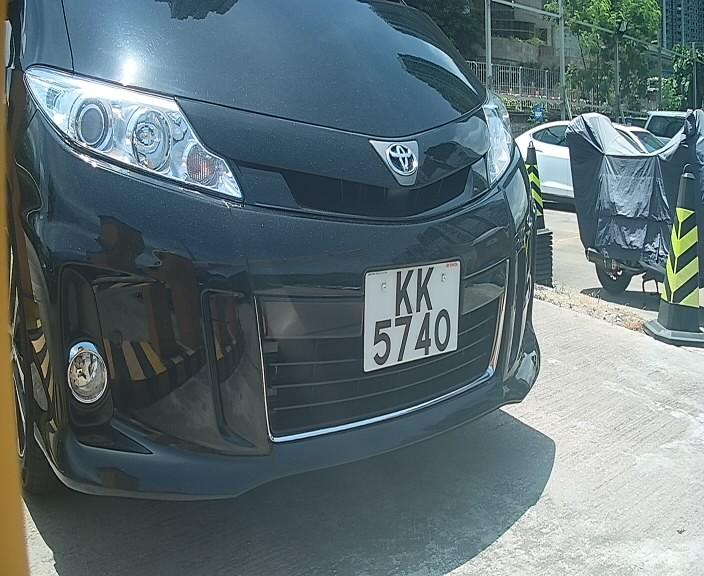License Plate: (356, 245, 466, 389)
